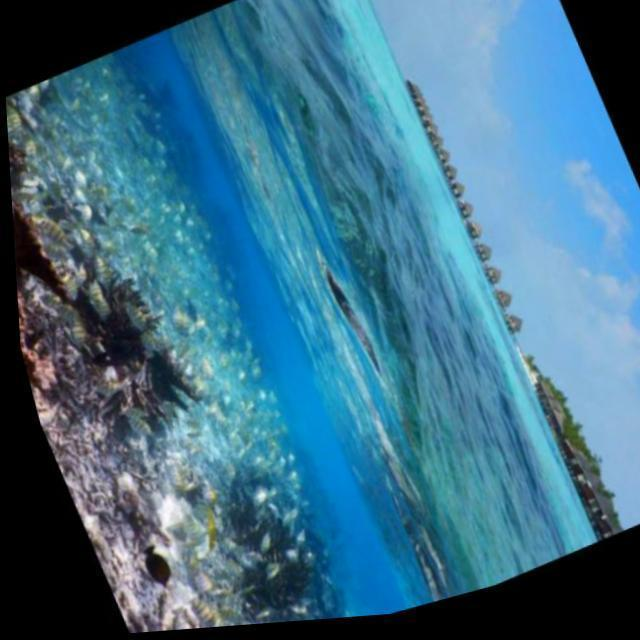Dead Coral: (18, 327, 191, 580)
